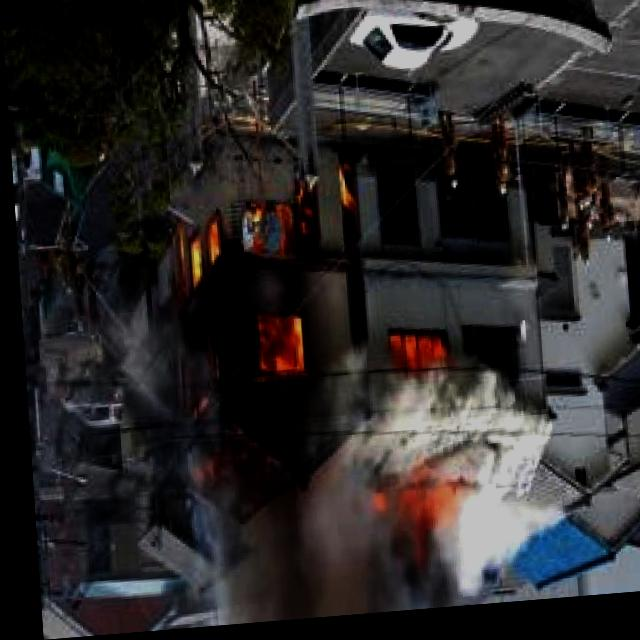Fire: (160, 196, 327, 439), (356, 485, 470, 564), (382, 328, 448, 379)
Smoke: (203, 394, 570, 628)
